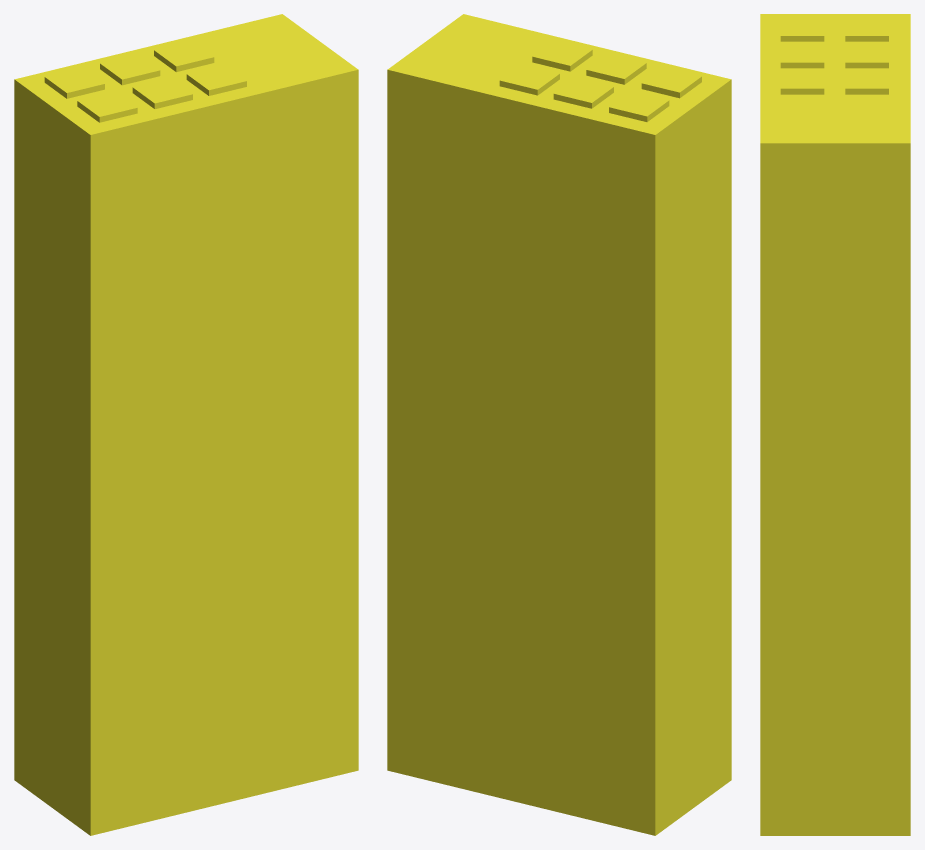
The model's file is Building2_yellow.fbx.
3 views of the same model, side by side, from view 1: azimuth 30°, elevation 25°; view 2: azimuth 150°, elevation 25°; view 3: azimuth 270°, elevation 25° (orthographic).
Parts seen in each view (by area): view 1: Building 2; view 2: Building 2; view 3: Building 2.
Part boxes in pixels (bbox=[...]): Building 2: bbox=[14, 14, 358, 835]; Building 2: bbox=[387, 14, 731, 835]; Building 2: bbox=[760, 14, 910, 835].
Size of the model in its own units: 1683 by 4241 by 828.
Materials: 1 (1 with a texture image).
